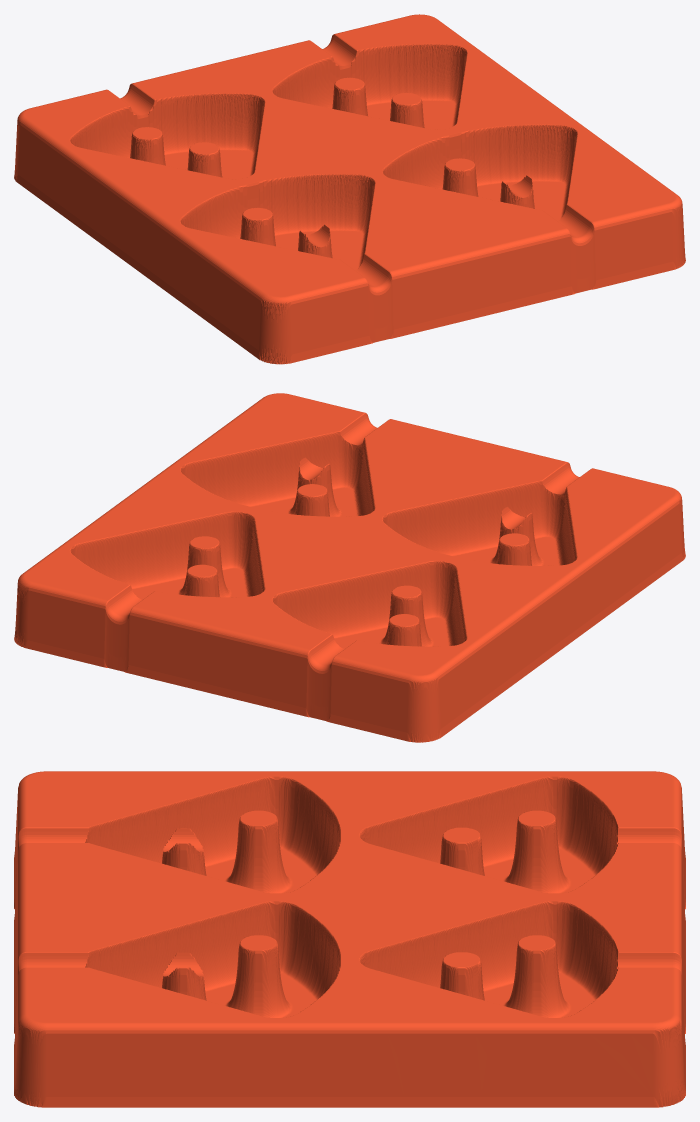
The model's file is mold.glb.
3 views of the same model, one above another, from view 1: azimuth 30°, elevation 25°; view 2: azimuth 150°, elevation 25°; view 3: azimuth 270°, elevation 25° (orthographic). The views are drawn at different scales.
Visible parts, largest first — view 1: geometry_0; view 2: geometry_0; view 3: geometry_0.
Part boxes in pixels (x1=…): geometry_0: x1=14, y1=14, x2=685, y2=364; geometry_0: x1=14, y1=393, x2=685, y2=742; geometry_0: x1=14, y1=771, x2=685, y2=1107.
Size of the model in its own units: 0.1726 by 0.0245 by 0.1876.
